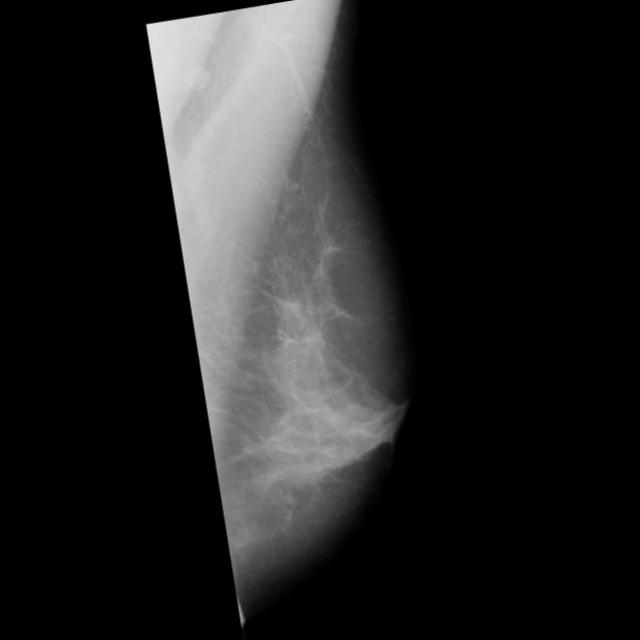CALC: (266, 286, 330, 351)
